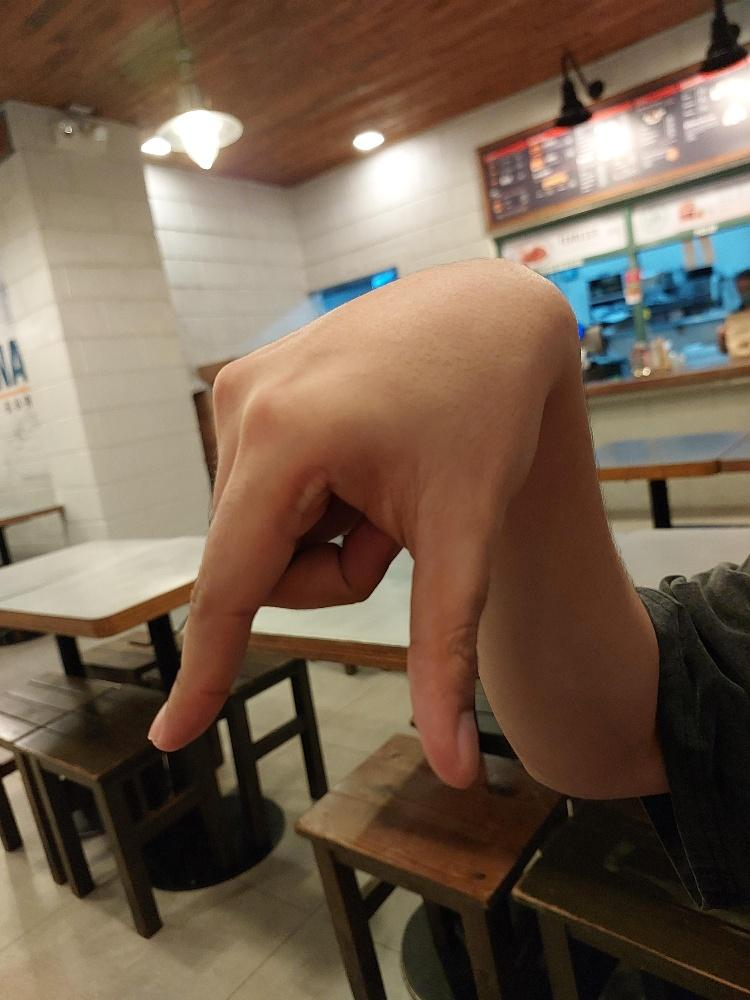q: (142, 252, 553, 790)
